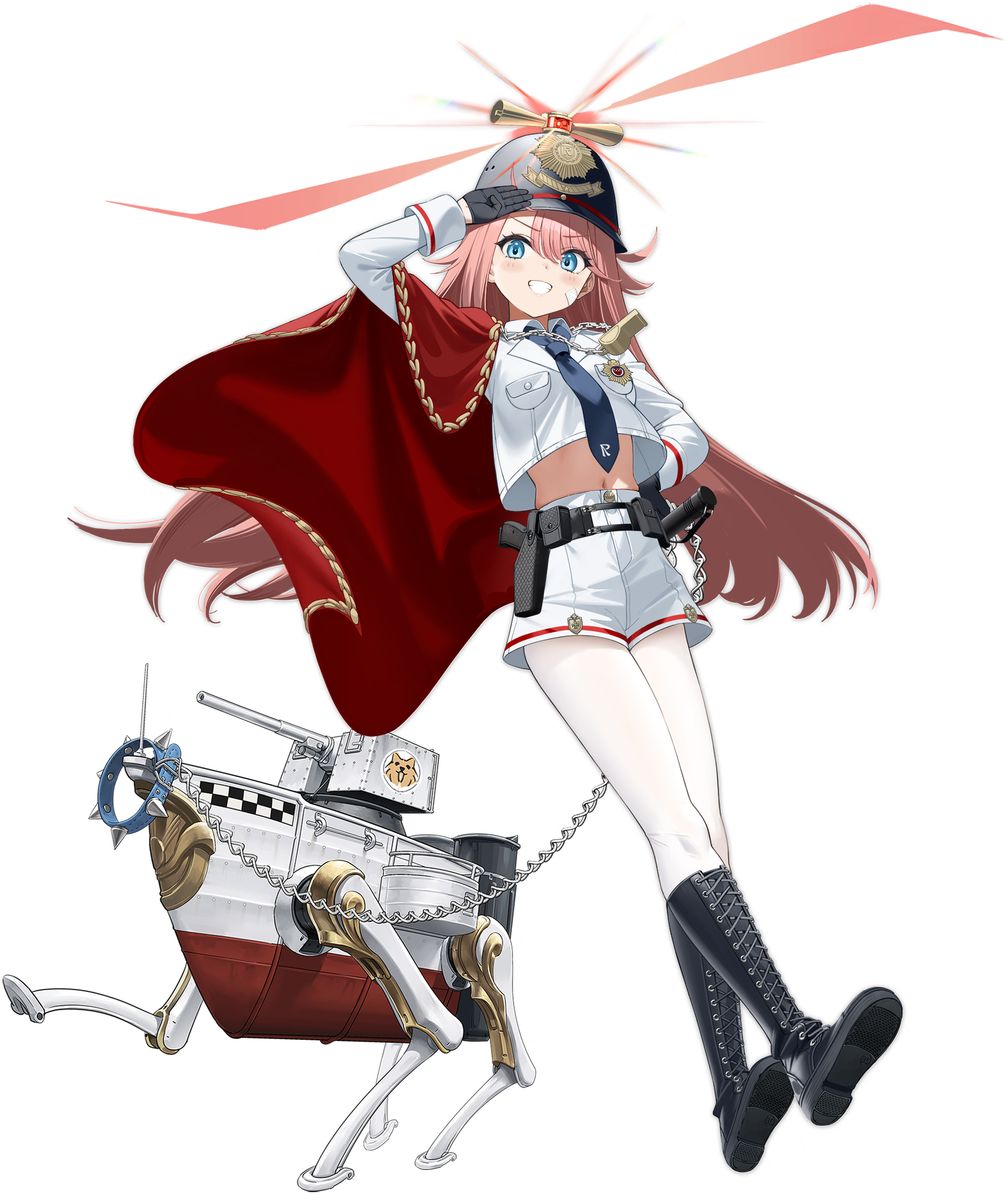person: (41, 117, 976, 1194)
